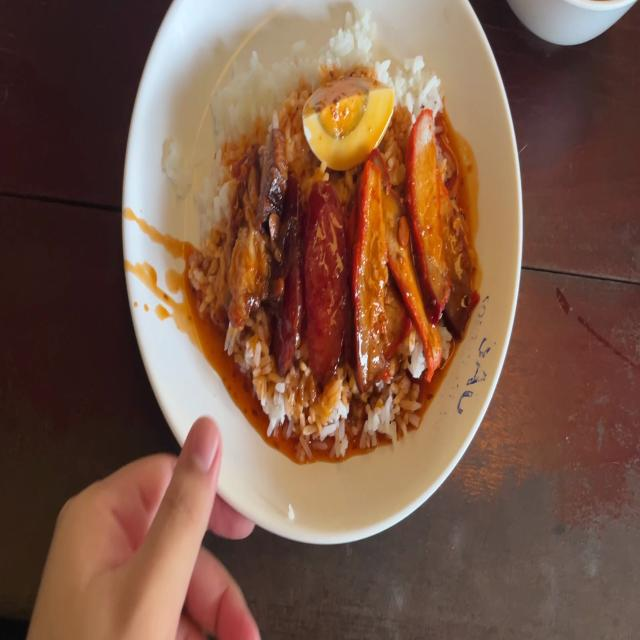red_pork_and_crispy_pork: (316, 90, 396, 156)
stir_fried_basil: (279, 187, 342, 358)
